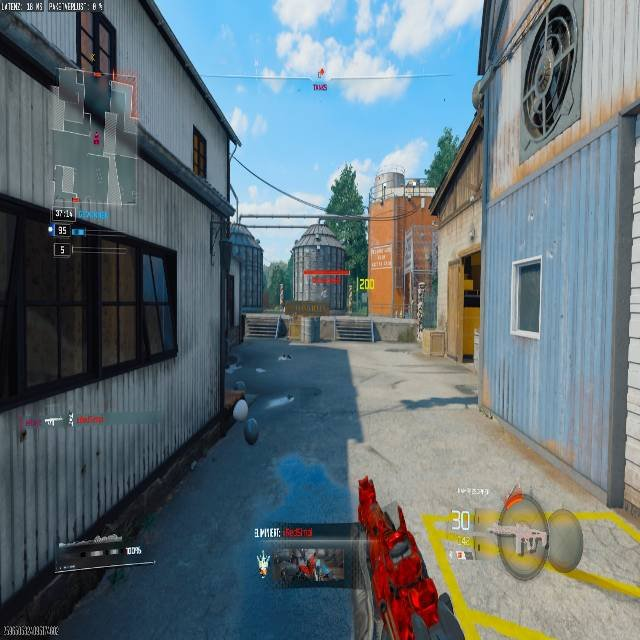player: (320, 287, 327, 300)
